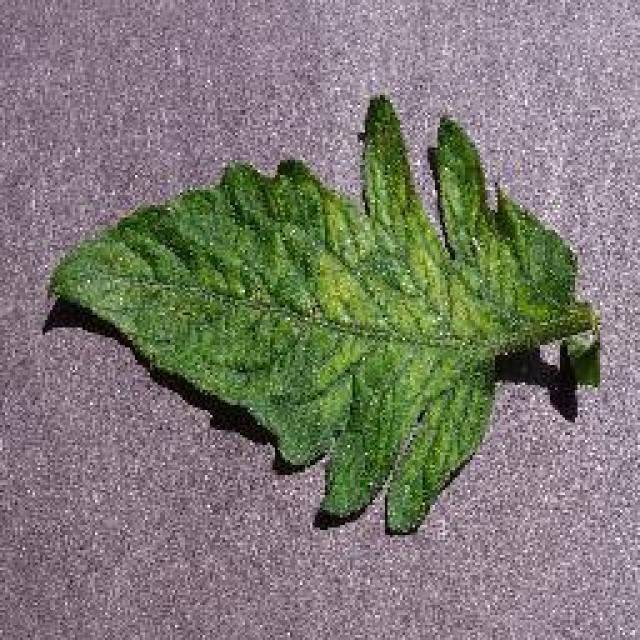Tomato spider mites leaf: (40, 100, 585, 540)
